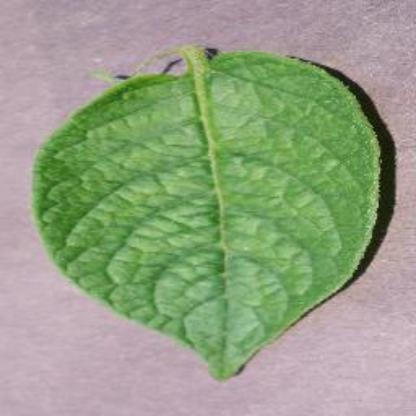Healthy-plant: (25, 26, 391, 382)
